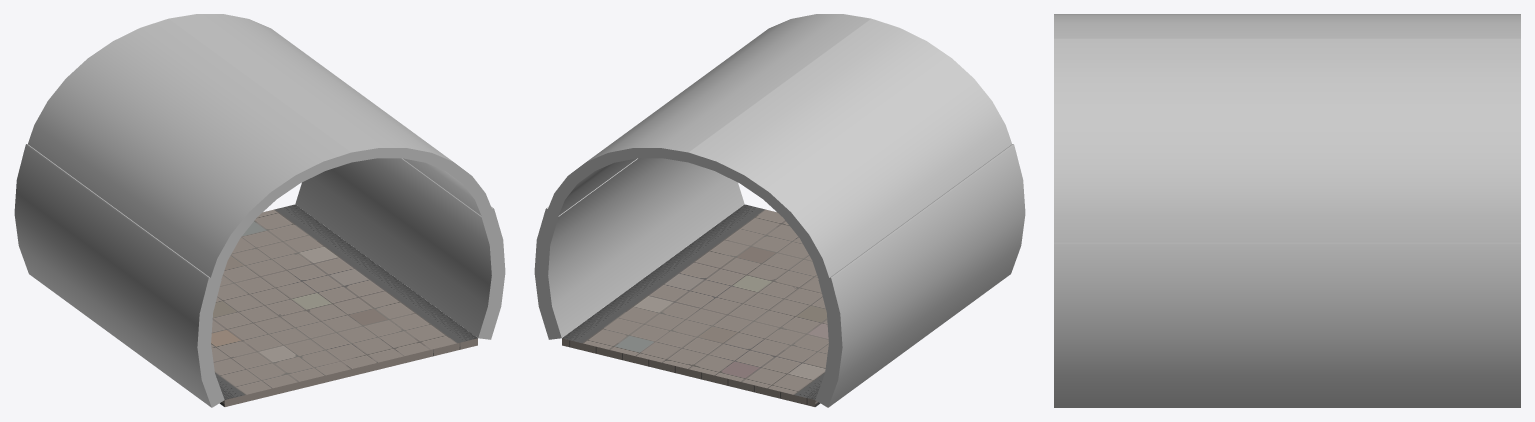
The model's file is road_1.fbx.
The picture shows the model from 3 angles, left to right: view 1: azimuth 30°, elevation 25°; view 2: azimuth 150°, elevation 25°; view 3: azimuth 270°, elevation 25°; orthographic projection. The views are drawn at different scales.
Parts seen in each view (by area): view 1: Cylinder.025, Grid, Cylinder.024, Cylinder.023, Cylinder.022; view 2: Cylinder.025, Grid, Cylinder.024, Cylinder.023, Cylinder.022; view 3: Cylinder.022, Cylinder.023, Cylinder.025.
Part boxes in pixels (x1,y1,x2,y2): Cylinder.025: [28, 18, 351, 282]; Grid: [211, 204, 477, 406]; Cylinder.024: [14, 144, 224, 407]; Cylinder.023: [295, 158, 505, 339]; Cylinder.022: [169, 14, 493, 217]; Cylinder.025: [688, 18, 1011, 282]; Grid: [562, 204, 828, 406]; Cylinder.024: [815, 144, 1025, 407]; Cylinder.023: [534, 158, 744, 339]; Cylinder.022: [547, 14, 870, 217]; Cylinder.022: [1054, 38, 1520, 242]; Cylinder.023: [1054, 242, 1520, 407]; Cylinder.025: [1054, 14, 1520, 38].
Size of the model in its own units: 451 by 313 by 464.
